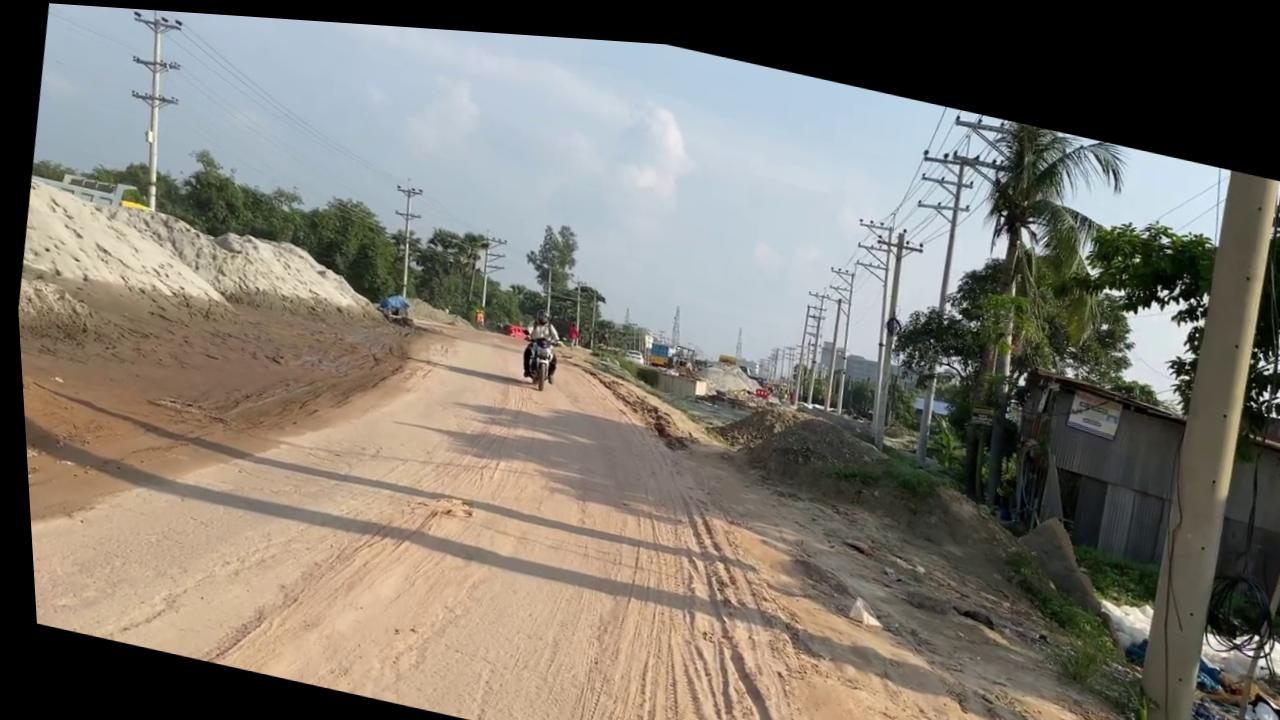Garbage: (13, 175, 363, 350)
Light-pole: (101, 5, 197, 213)
Motorcycle: (510, 323, 559, 386)
Pole: (1094, 139, 1280, 720), (871, 102, 1030, 466), (844, 210, 932, 444)
Rickshaw: (561, 343, 1280, 720)
Traffic-sign: (886, 90, 1147, 516), (512, 207, 582, 313)
Tree: (370, 283, 414, 322)
Upstairs: (989, 345, 1280, 603)
